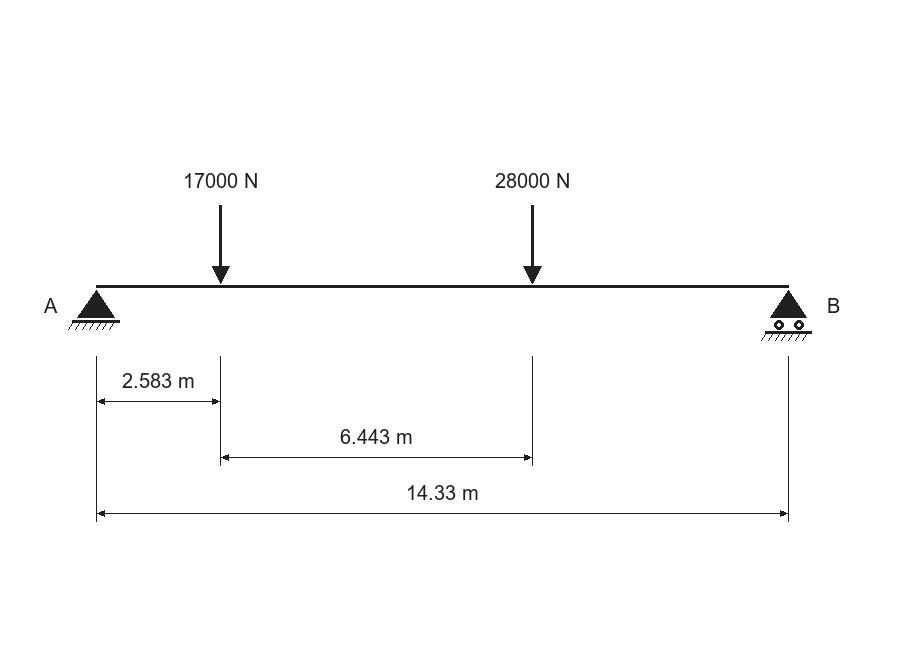pin_support: (68, 290, 120, 330)
point_load: (523, 205, 542, 284), (212, 205, 230, 284)
roller_support: (761, 290, 812, 341)
